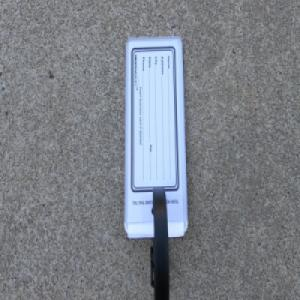LuggageTag: (122, 33, 189, 300)
